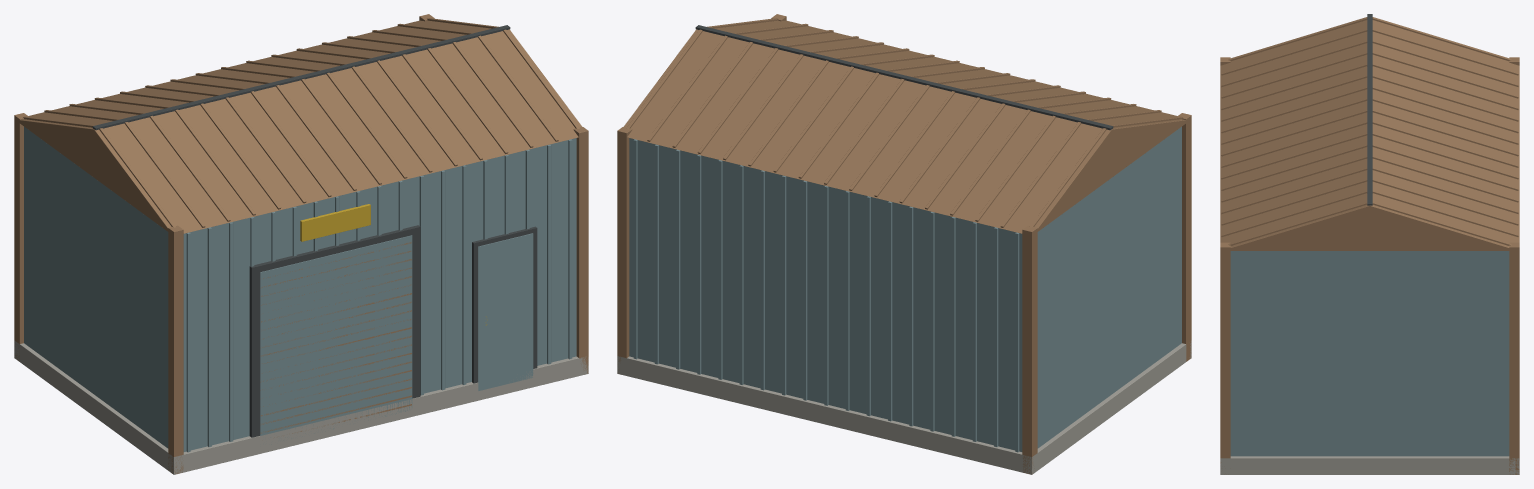
Rendered from SM_LS_Warehouse.fbx.
3 views of the same model, side by side, from view 1: azimuth 30°, elevation 25°; view 2: azimuth 150°, elevation 25°; view 3: azimuth 270°, elevation 25° (orthographic). The views are drawn at different scales.
Parts seen in each view (by area): view 1: SM_LS_Warehouse; view 2: SM_LS_Warehouse; view 3: SM_LS_Warehouse.
Part boxes in pixels (x1,y1,x2,y2): SM_LS_Warehouse: (14,14,588,474); SM_LS_Warehouse: (617,14,1191,474); SM_LS_Warehouse: (1220,14,1519,474).
Size of what is drawn, in the model's own units: 6 by 4 by 4.
